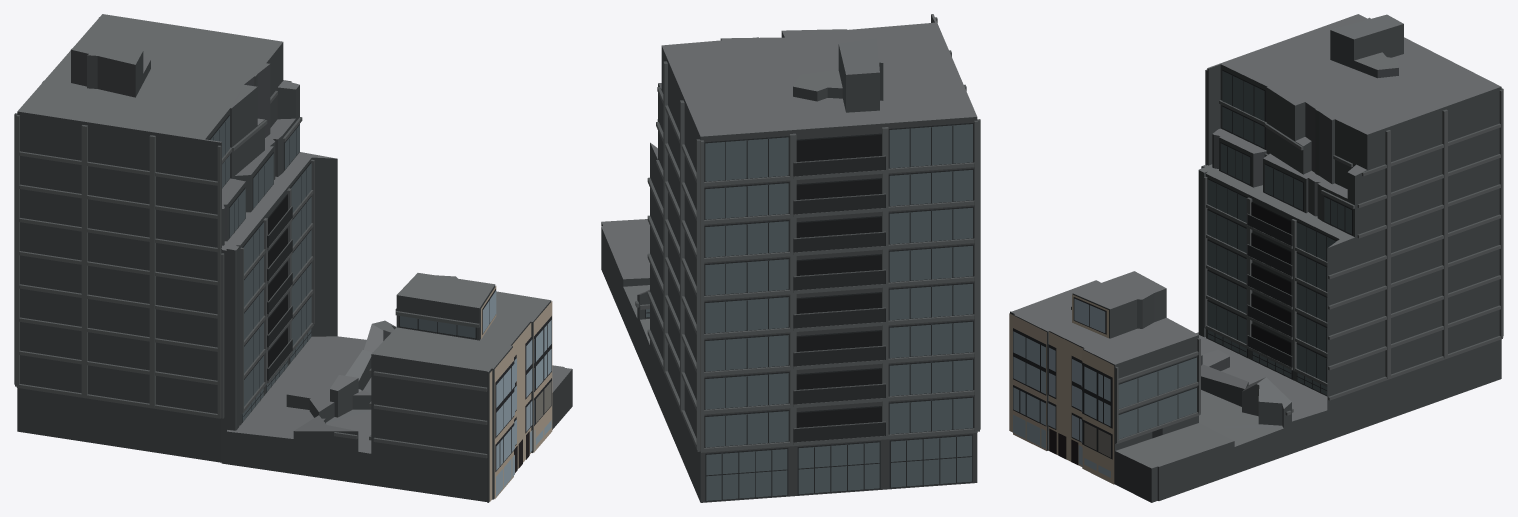
File: haparandaweg-870-900.glb
3 views of the same model, side by side, from view 1: azimuth 30°, elevation 25°; view 2: azimuth 150°, elevation 25°; view 3: azimuth 270°, elevation 25° (orthographic). The views are drawn at different scales.
Visible parts, largest first — view 1: haparandaweg-870-900; view 2: haparandaweg-870-900; view 3: haparandaweg-870-900.
Boxes of the visible parts, x1,y1,x2,y2 form: haparandaweg-870-900: (14, 14, 572, 502); haparandaweg-870-900: (601, 14, 980, 502); haparandaweg-870-900: (1009, 14, 1503, 502).
Bounding box in the file's own units: 41.97 × 31.92 × 44.34.
